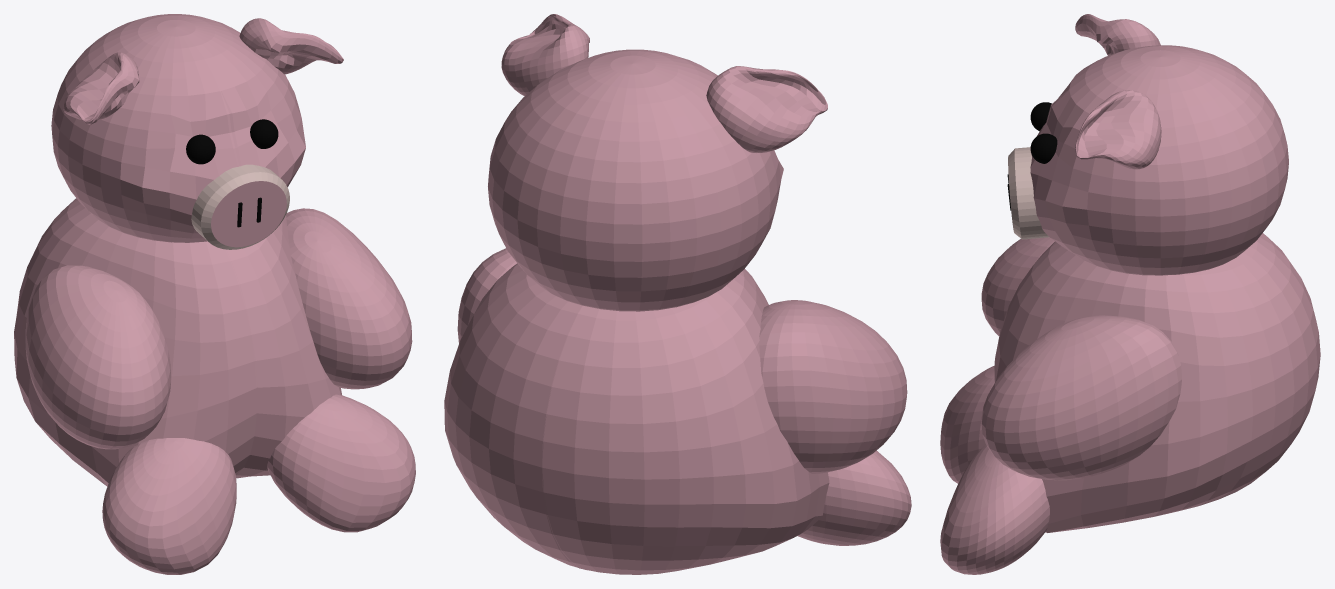
File: plush_pig.glb
3 renders of one model, left to right at view 1: azimuth 30°, elevation 25°; view 2: azimuth 150°, elevation 25°; view 3: azimuth 270°, elevation 25°, orthographic. The views are drawn at different scales.
Visible parts, largest first — view 1: Sphere, Sphere.001, Cylinder, Sphere.003; view 2: Sphere, Sphere.001; view 3: Sphere, Sphere.001, Cylinder, Sphere.003.
Boxes of the visible parts, x1,y1,x2,y2 form: Sphere: (14, 198, 415, 574); Sphere.001: (51, 14, 343, 242); Cylinder: (191, 164, 289, 249); Sphere.003: (186, 119, 278, 164); Sphere: (444, 248, 911, 574); Sphere.001: (488, 14, 827, 311); Sphere: (940, 233, 1320, 574); Sphere.001: (1030, 14, 1288, 275); Cylinder: (1008, 147, 1049, 239); Sphere.003: (1030, 102, 1057, 163).
Size of the model in its own units: 2.58 by 3.23 by 2.38.
3 materials, 1 textured.
